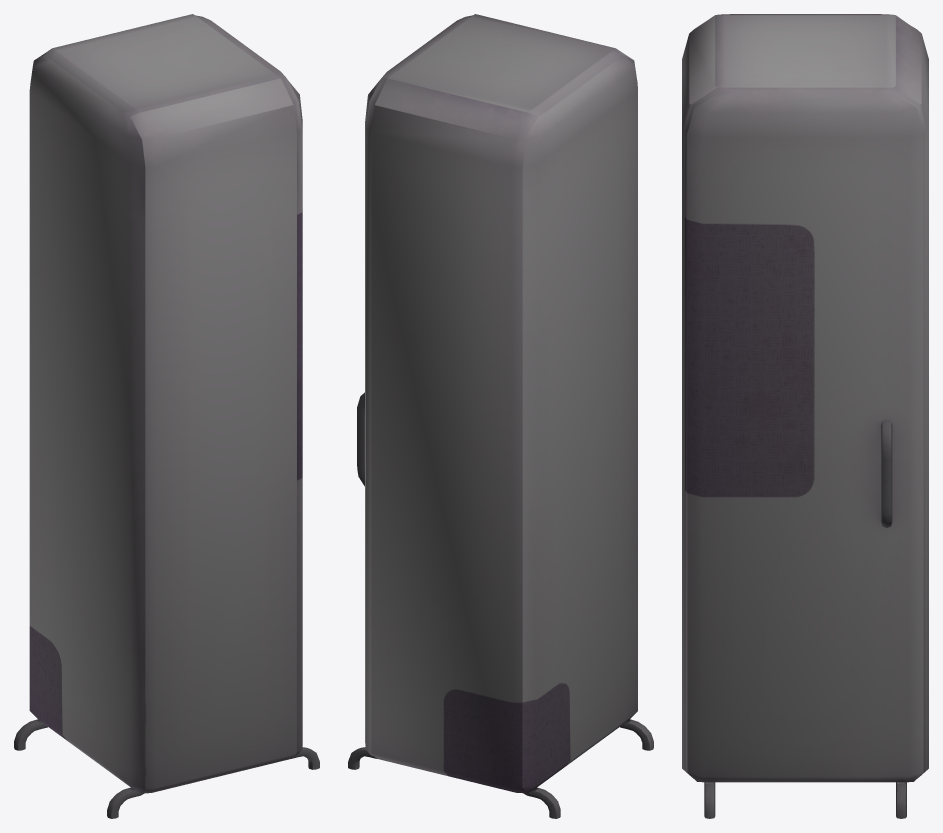
File: closet1.fbx
The picture shows the model from 3 angles, left to right: view 1: azimuth 30°, elevation 25°; view 2: azimuth 150°, elevation 25°; view 3: azimuth 270°, elevation 25°; orthographic projection. The views are drawn at different scales.
Parts seen in each view (by area): view 1: bo.closet1 DONE; view 2: bo.closet1 DONE; view 3: bo.closet1 DONE.
Part boxes in pixels (x1=…): bo.closet1 DONE: x1=14, y1=14, x2=319, y2=818; bo.closet1 DONE: x1=348, y1=14, x2=653, y2=818; bo.closet1 DONE: x1=682, y1=14, x2=928, y2=818.
Bounding box in the file's own units: 60.49 × 190 × 59.43.
